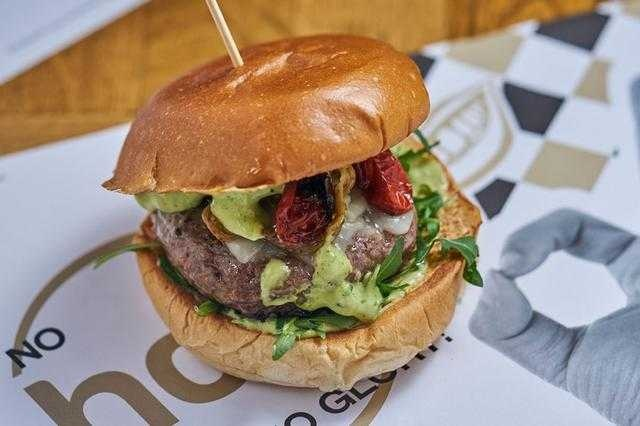hamburger: (133, 22, 473, 367)
